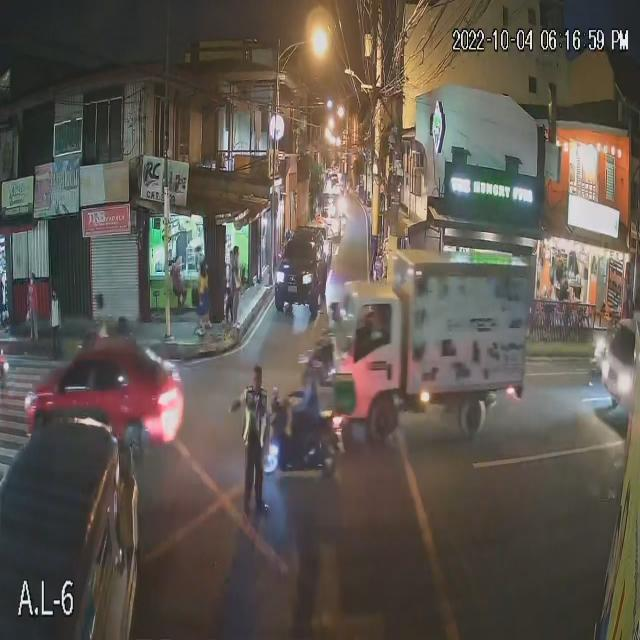helmet: (329, 301, 345, 320)
motorcycle: (268, 403, 347, 477), (302, 342, 344, 371)
rider: (298, 374, 320, 429)
